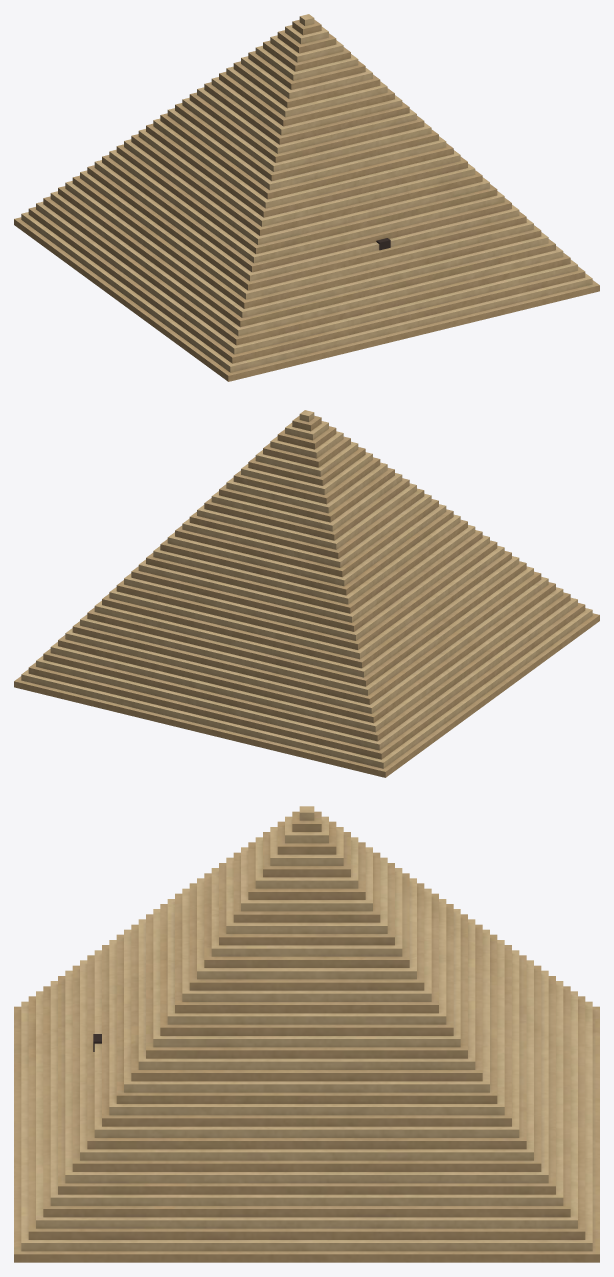
Rendered from pyramid_liten_tex.glb.
The picture shows the model from 3 angles, top to bottom: view 1: azimuth 30°, elevation 25°; view 2: azimuth 150°, elevation 25°; view 3: azimuth 270°, elevation 25°; orthographic projection. The views are drawn at different scales.
Visible parts, largest first — view 1: pyramid_liten; view 2: pyramid_liten; view 3: pyramid_liten.
Part boxes in pixels (x1,y1,x2,y2): pyramid_liten: (14, 14, 599, 381); pyramid_liten: (14, 410, 599, 777); pyramid_liten: (14, 806, 599, 1262).
Size of the model in its own units: 100 by 62 by 100.
Materials: 3 (2 with a texture image).
